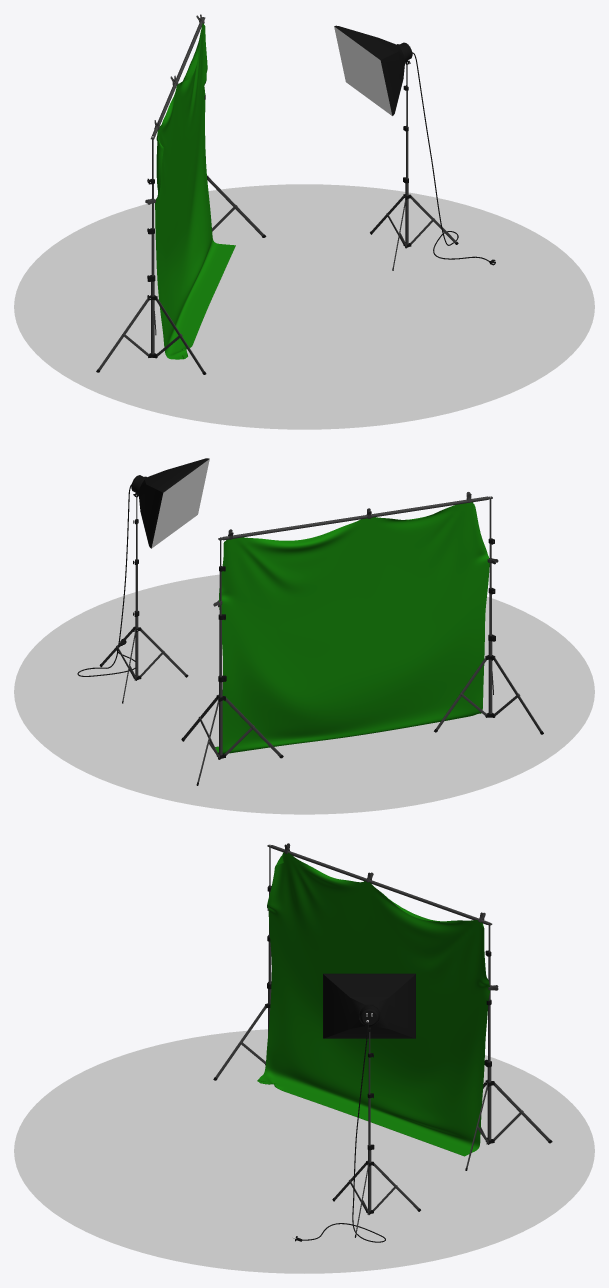
Rendered from green screen studio v2.fbx.
3 views of the same model, one above another, from view 1: azimuth 30°, elevation 25°; view 2: azimuth 150°, elevation 25°; view 3: azimuth 270°, elevation 25° (orthographic).
Parts seen in each view (by area): view 1: floor.001, Plane.001, box shader, legs.001, legs, main pole.001; view 2: floor.001, Plane.001, box shader, green pole, legs.002, legs.001, main pole.001, legs, main pole.002, cable, main pole; view 3: floor.001, Plane.001, box shader, green pole, legs.002, main pole.002, legs, cable.
Part boxes in pixels (x1,y1,x2,y2): floor.001: (14,184,594,429); Plane.001: (155,23,235,359); box shader: (334,25,405,115); legs.001: (96,296,206,374); legs: (370,194,458,270); main pole.001: (151,136,154,354); floor.001: (14,574,594,814); Plane.001: (215,502,489,753); box shader: (138,458,209,548); green pole: (218,496,492,540); legs.002: (181,695,283,785); legs.001: (434,656,543,734); main pole.001: (488,496,492,713); legs: (99,626,188,703); main pole.002: (219,537,222,755); cable: (77,484,135,676); main pole: (135,495,138,676); floor.001: (14,1029,594,1273); Plane.001: (257,852,489,1156); box shader: (323,973,415,1038); green pole: (267,845,492,925); legs.002: (465,1080,552,1170); main pole.002: (487,922,491,1140); legs: (332,1161,420,1237); cable: (302,1021,385,1242).
Size of the model in its own units: 422 by 186 by 422.
